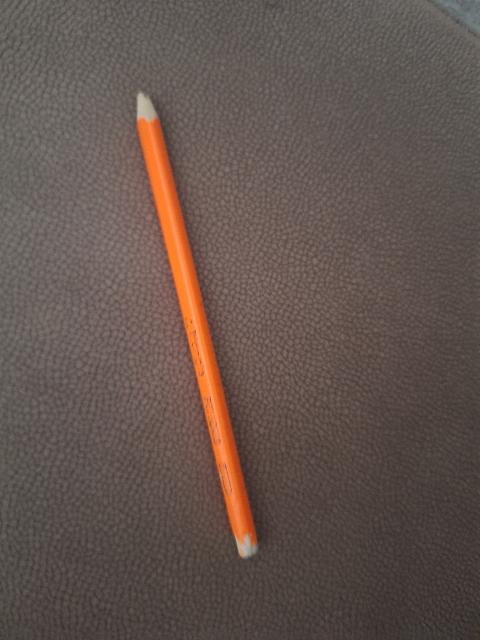writing_tool: (127, 85, 269, 564)
